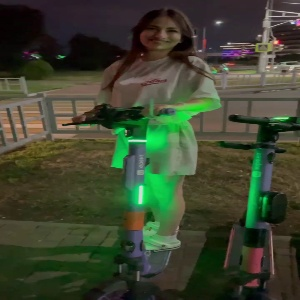human on a scooter: (62, 6, 224, 300)
